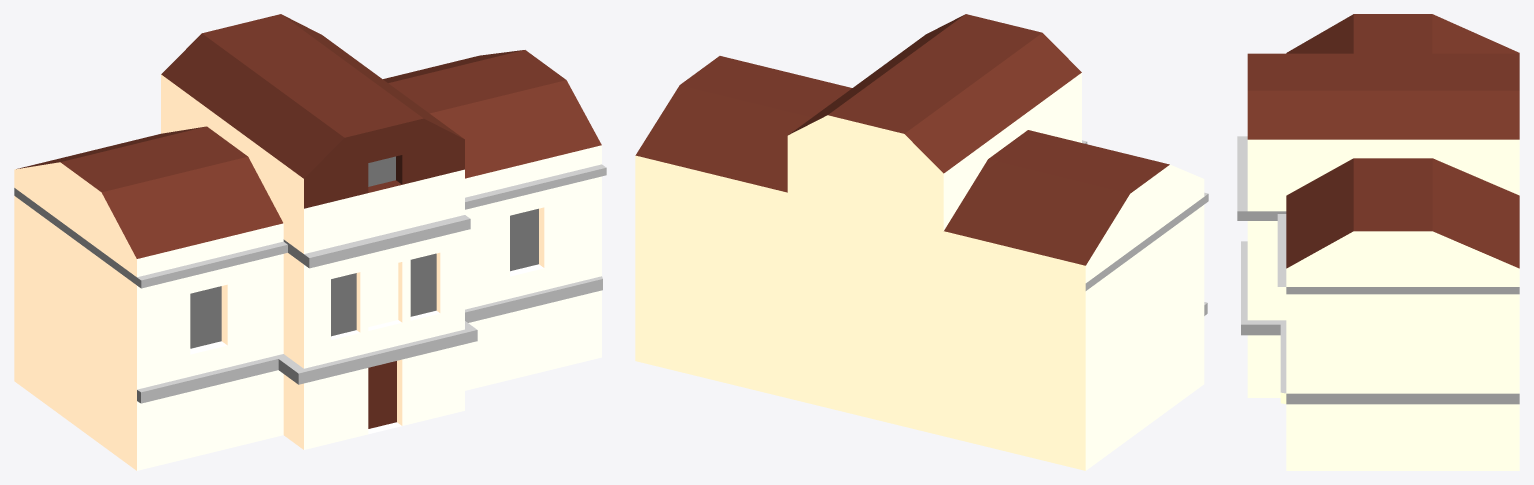
Rendered from dworzec.fbx.
3 views of the same model, side by side, from view 1: azimuth 30°, elevation 25°; view 2: azimuth 150°, elevation 25°; view 3: azimuth 270°, elevation 25° (orthographic). The views are drawn at different scales.
Visible parts, largest first — view 1: Cube; view 2: Cube; view 3: Cube.
Boxes of the visible parts, bbox=[...] form: Cube: bbox=[14, 14, 606, 470]; Cube: bbox=[635, 14, 1208, 470]; Cube: bbox=[1237, 14, 1519, 470].
Bounding box in the file's own units: 983 × 611 × 543.
